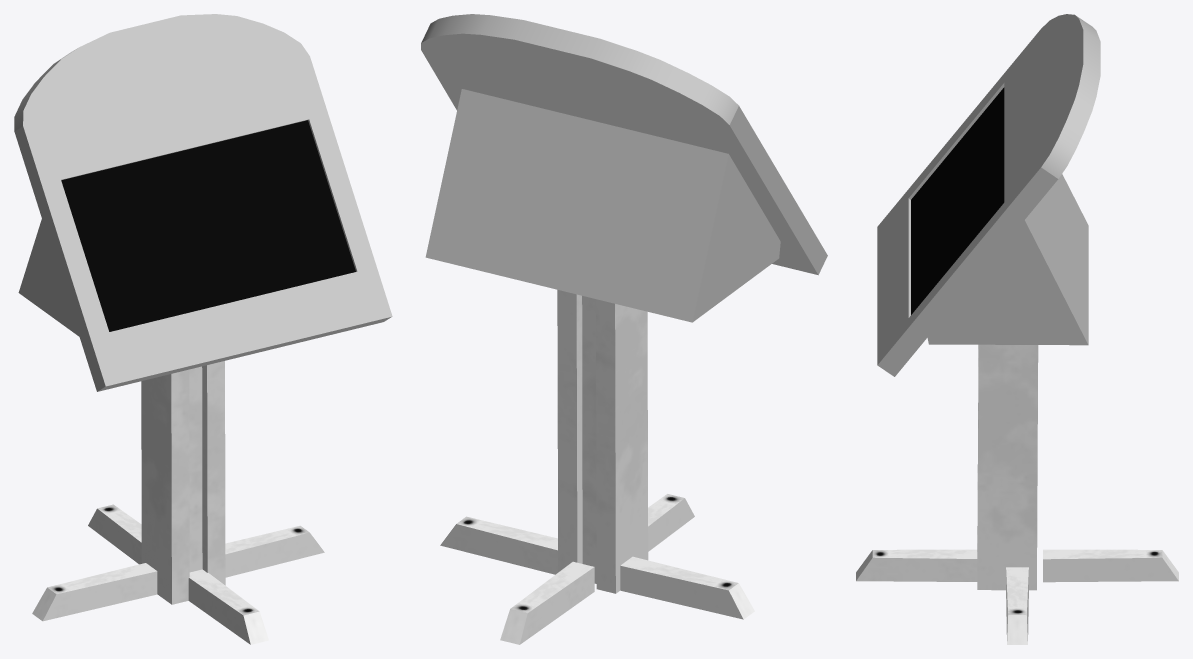
The model's file is NRAE Show Selector.fbx.
3 renders of one model, left to right at view 1: azimuth 30°, elevation 25°; view 2: azimuth 150°, elevation 25°; view 3: azimuth 270°, elevation 25°, orthographic. The views are drawn at different scales.
Visible parts, largest first — view 1: Cube.001; view 2: Cube.001; view 3: Cube.001.
Boxes of the visible parts, x1,y1,x2,y2 form: Cube.001: (14,14,392,644); Cube.001: (421,14,827,644); Cube.001: (856,14,1178,644).
Bounding box in the file's own units: 36.4 × 64.93 × 35.82.
